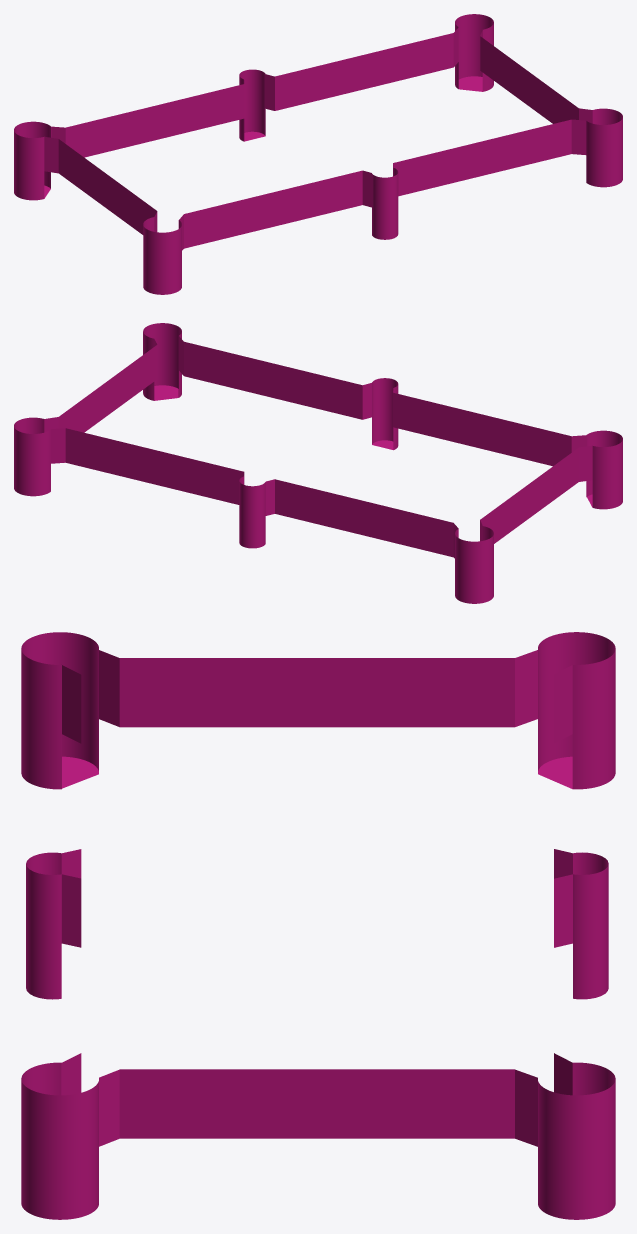
The model's file is PoolWall.fbx.
3 views of the same model, one above another, from view 1: azimuth 30°, elevation 25°; view 2: azimuth 150°, elevation 25°; view 3: azimuth 270°, elevation 25° (orthographic). The views are drawn at different scales.
Parts seen in each view (by area): view 1: Model; view 2: Model; view 3: Model.
Boxes of the visible parts, bbox=[...] form: Model: bbox=[14, 14, 622, 294]; Model: bbox=[14, 323, 622, 603]; Model: bbox=[21, 632, 615, 1219].
Bounding box in the file's own units: 9.65 × 1.21 × 5.23.
